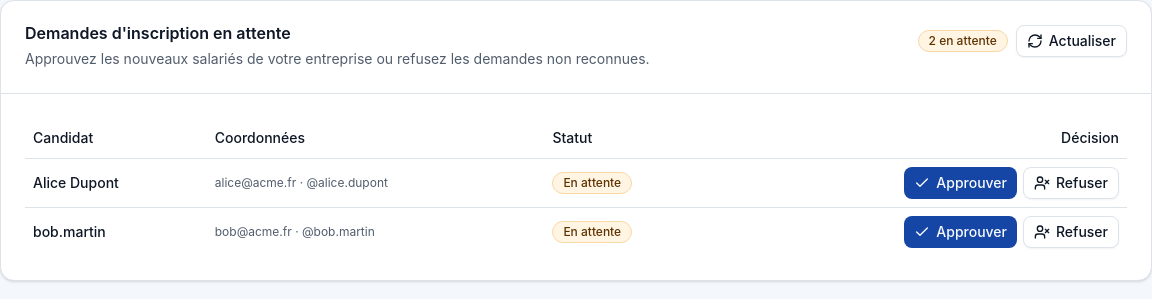
Scenario: PendingRegistrationsPanel › affiche la liste des demandes et permet d'approuver un compte
The width and height of the screenshot is (1152, 299).
Expected: the text "Alice Dupont" is shown, [25,158,207,207]
Expected: the text "bob.martin" is shown, [25,207,207,256]
Step 1. Click the button "Approuver" in the row of "Alice Dupont" → (961, 182), box [904,166,1017,198]
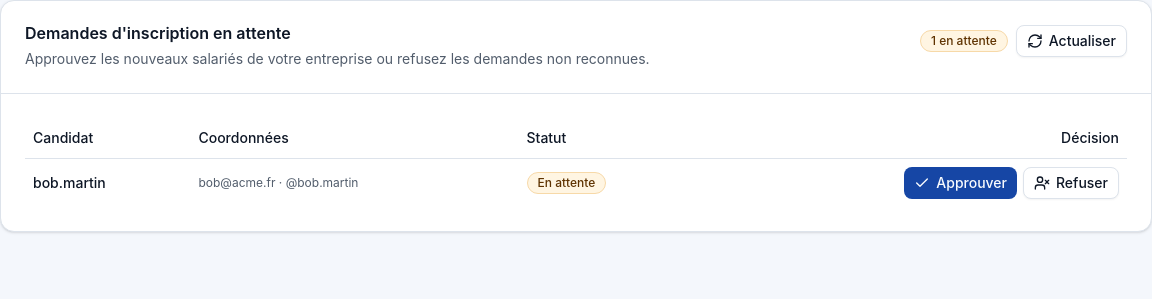
Now the text "Alice Dupont" is gone
Now the text "1 en attente" is shown, box [920,30,1008,52]
